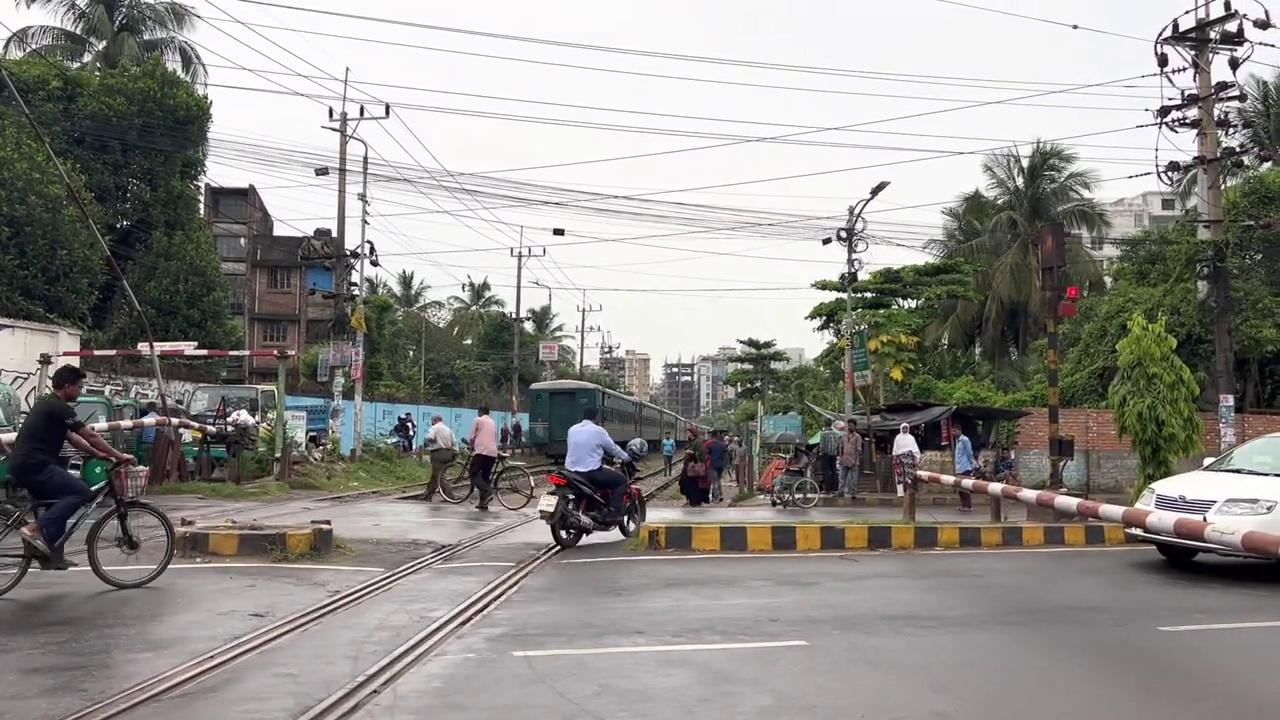Bollard: (1122, 430, 1279, 569)
Car: (632, 519, 1141, 552)
Curb: (539, 453, 647, 548)
Fence: (7, 363, 138, 569), (564, 406, 636, 519), (418, 413, 459, 502), (467, 405, 498, 510), (949, 422, 976, 511)
Garbage: (1038, 222, 1067, 487), (83, 415, 219, 435)
Motorcycle: (61, 448, 697, 718)
Railroad-crossing: (1104, 309, 1204, 506)
